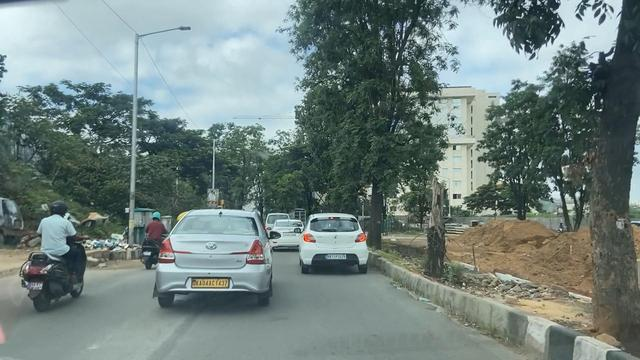LMV: (159, 220, 264, 300), (27, 200, 83, 302), (305, 220, 362, 270), (145, 215, 158, 262)
